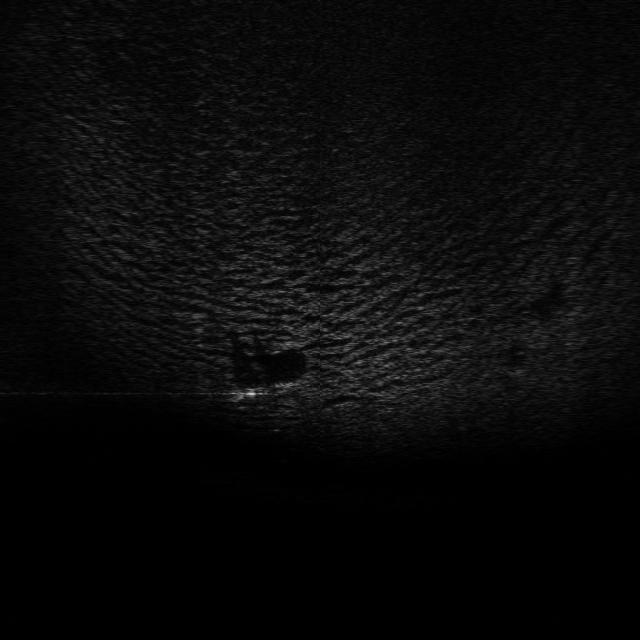plane: (223, 376, 304, 405)
